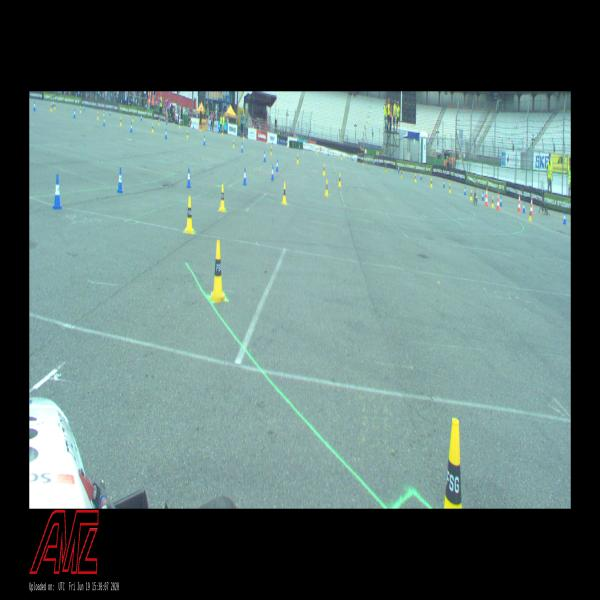blue_cone: (52, 174, 62, 208), (117, 168, 123, 193), (187, 168, 191, 188), (243, 167, 247, 185), (271, 164, 274, 180), (522, 202, 526, 213), (263, 149, 266, 162), (563, 211, 566, 224), (276, 159, 278, 172), (500, 195, 502, 206), (464, 185, 466, 196), (241, 141, 243, 152), (165, 128, 167, 139), (34, 100, 36, 111), (482, 190, 484, 200), (443, 178, 445, 188), (74, 108, 76, 118), (103, 116, 105, 126), (130, 122, 132, 132), (140, 112, 142, 120), (420, 172, 422, 180), (109, 108, 111, 115), (204, 134, 205, 146), (398, 164, 399, 172)
large_orange_cone: (517, 192, 521, 212), (496, 192, 500, 210), (485, 187, 488, 206), (531, 198, 533, 215)
yellow_cone: (444, 417, 462, 509), (211, 241, 225, 301), (185, 195, 194, 234), (220, 184, 226, 211), (282, 183, 286, 204), (325, 180, 328, 196), (529, 207, 532, 221), (338, 173, 341, 186), (491, 196, 494, 208), (323, 163, 325, 175), (296, 152, 298, 163), (470, 189, 472, 200), (430, 177, 432, 188), (448, 183, 450, 193), (120, 116, 122, 126), (186, 129, 188, 138), (97, 111, 99, 119), (158, 118, 160, 126), (103, 109, 105, 116), (132, 114, 134, 121), (271, 144, 272, 154), (233, 138, 234, 148), (152, 123, 153, 133), (51, 102, 52, 111), (415, 173, 416, 182), (80, 105, 81, 113), (401, 169, 402, 177), (385, 164, 386, 172)
